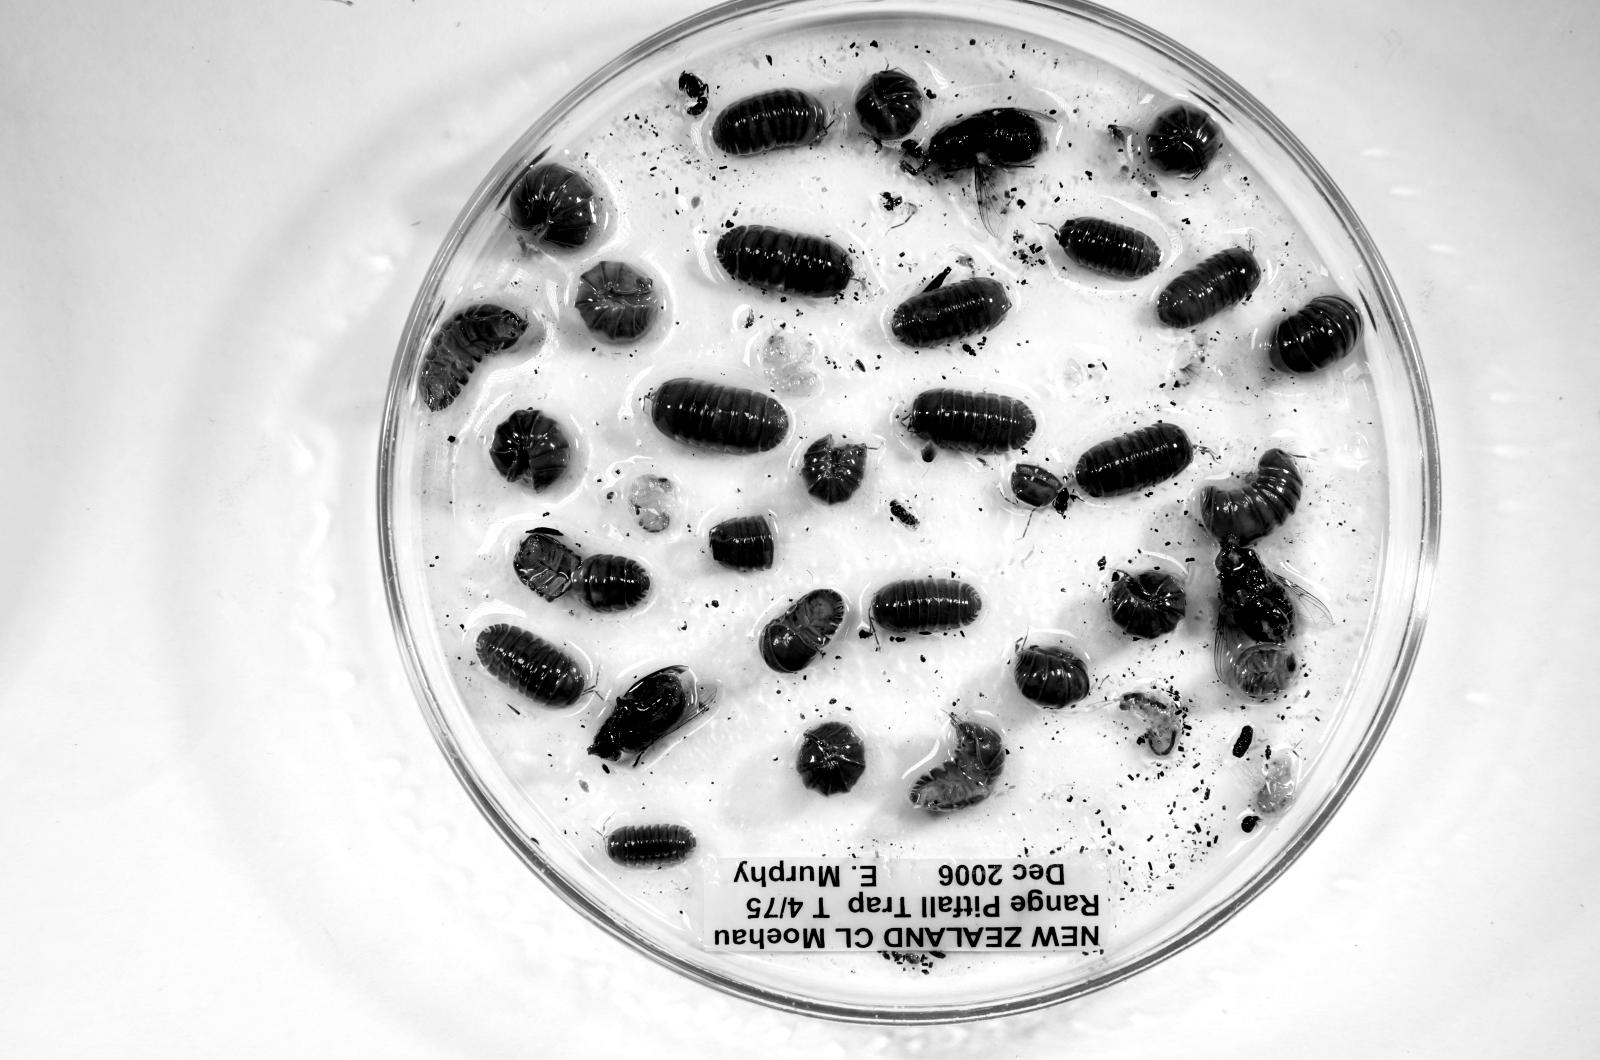acari: (1241, 814, 1259, 832)
amphipoda: (1118, 691, 1182, 757), (759, 329, 818, 397), (626, 473, 678, 533), (1252, 750, 1297, 817)
diptera: (1214, 545, 1336, 682), (902, 108, 1048, 221), (588, 666, 716, 766), (889, 500, 919, 529), (1107, 123, 1134, 151)
formicidae: (677, 71, 709, 117)
isopoda: (419, 304, 528, 411), (647, 379, 788, 454), (716, 225, 853, 298), (1200, 448, 1302, 545), (476, 623, 586, 708), (1075, 421, 1193, 497), (910, 719, 1007, 811), (901, 389, 1036, 454), (1157, 247, 1262, 328), (892, 278, 1012, 348), (510, 164, 603, 249), (712, 89, 828, 155), (1269, 296, 1362, 374), (759, 589, 845, 673), (574, 262, 662, 343), (1056, 217, 1161, 280), (490, 409, 570, 491), (870, 577, 982, 634), (1146, 105, 1221, 178), (1107, 569, 1185, 639), (855, 70, 924, 144), (797, 721, 865, 796), (1015, 645, 1089, 708), (801, 435, 867, 504), (607, 824, 697, 868)
